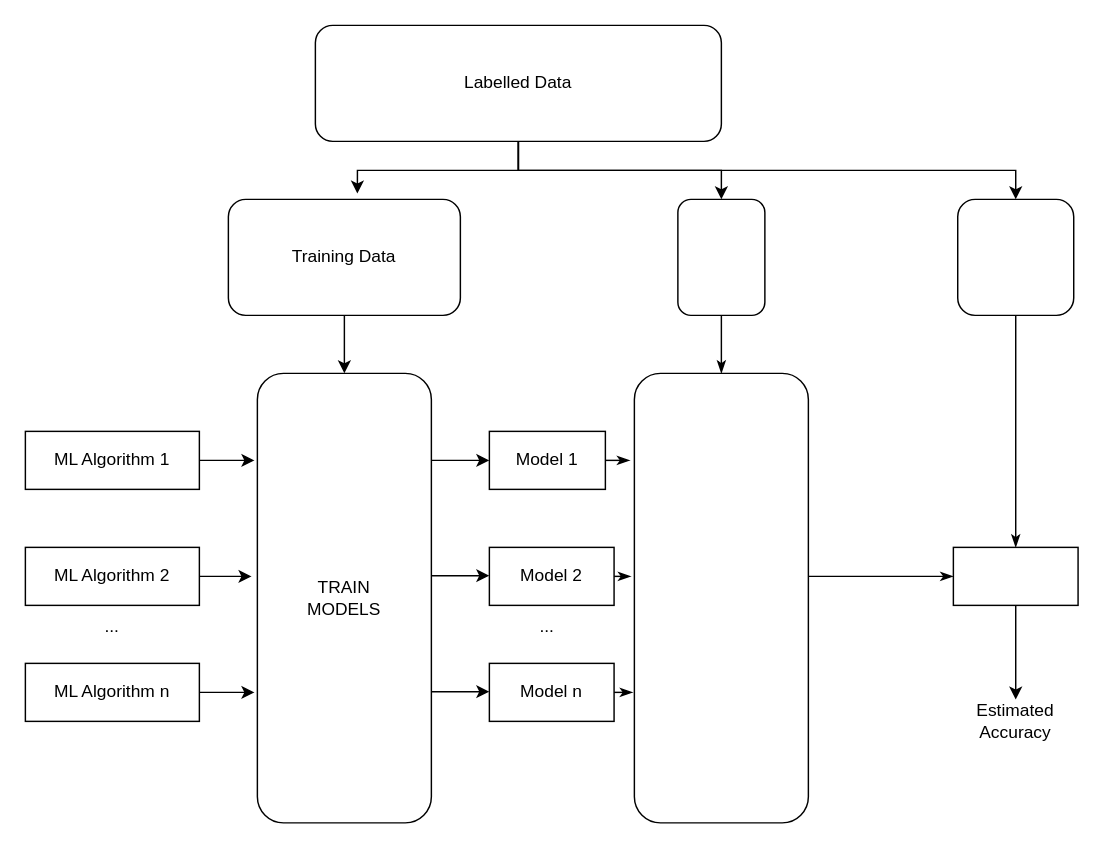
This 1103x848 diagram has some shape labels left out. Here are the shapes that lost their labels. From the top down, the box of each, then its label:
(676, 198, 765, 315): Validation Data
(956, 198, 1074, 315): Test Data
(952, 546, 1078, 605): Best Model
(633, 372, 808, 823): COMPARE MODELS
